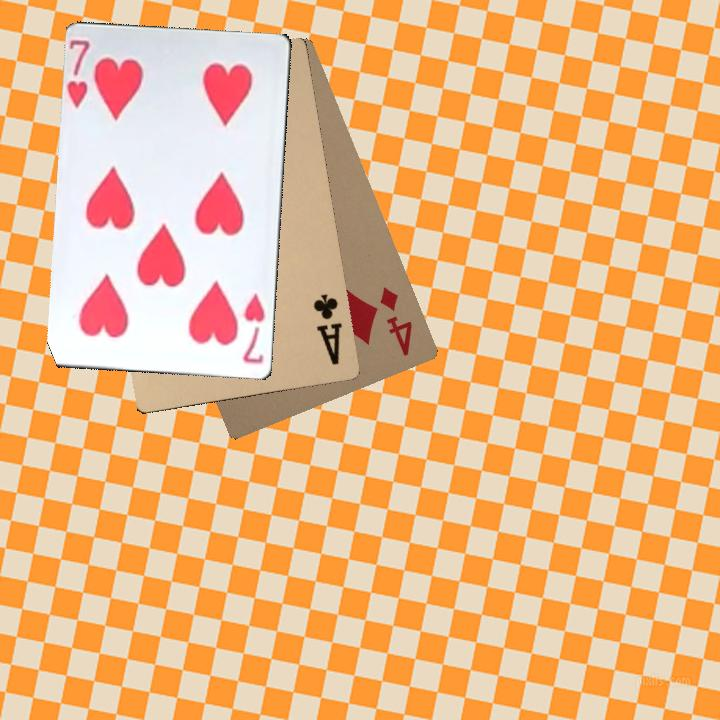4d: (376, 283, 415, 359)
7h: (239, 289, 267, 367), (65, 35, 92, 110)
Ac: (309, 289, 345, 367)
